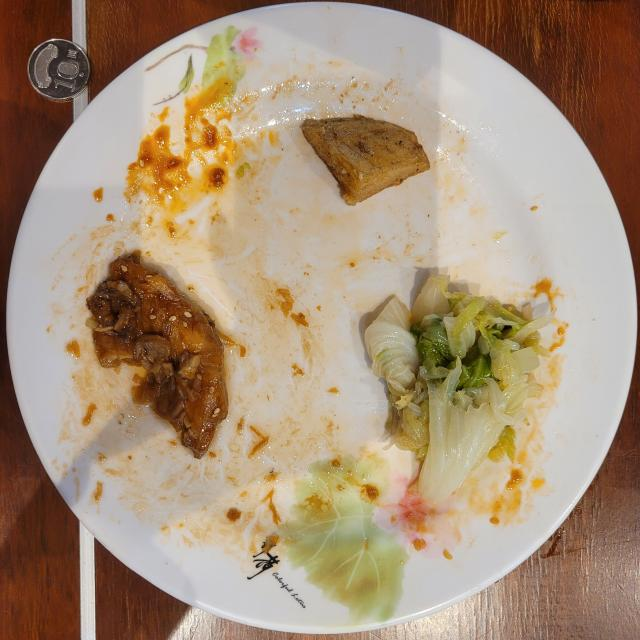Kabayaki sea bream fillet: (86, 251, 228, 459)
cabbage: (365, 275, 552, 504)
coin: (28, 39, 90, 101)
fried potato: (302, 115, 430, 205)
